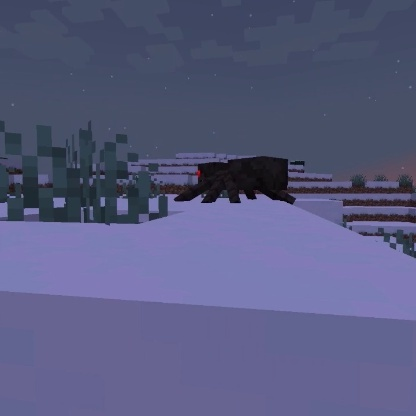spider: (172, 154, 296, 207)
